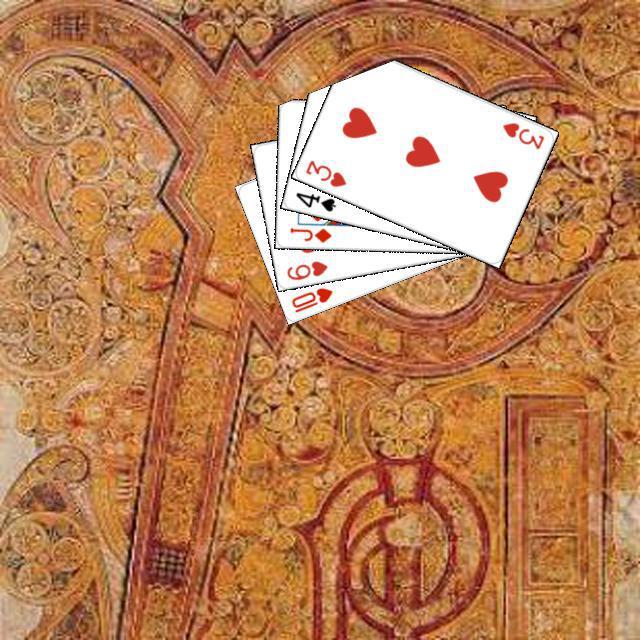10h: (286, 283, 334, 314)
3h: (300, 155, 348, 189), (498, 117, 546, 151)
4s: (291, 187, 337, 213)
6h: (282, 256, 329, 282)
Jd: (285, 222, 333, 244)
